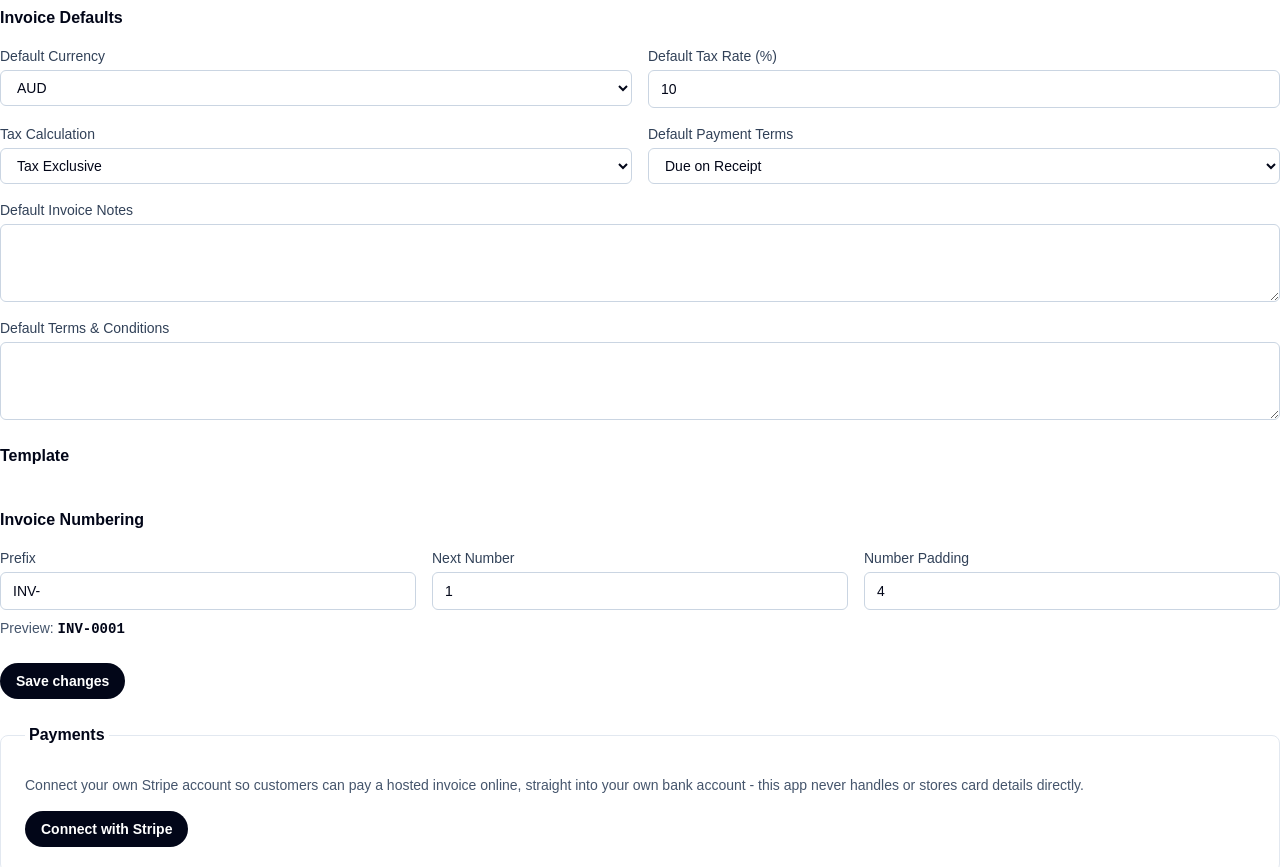
BusinessProfileSettings › shows a server error banner when saving fails
(page scrolled)
Click the button "Save changes" at (63, 681), box [0,663,125,699]
(page scrolled)
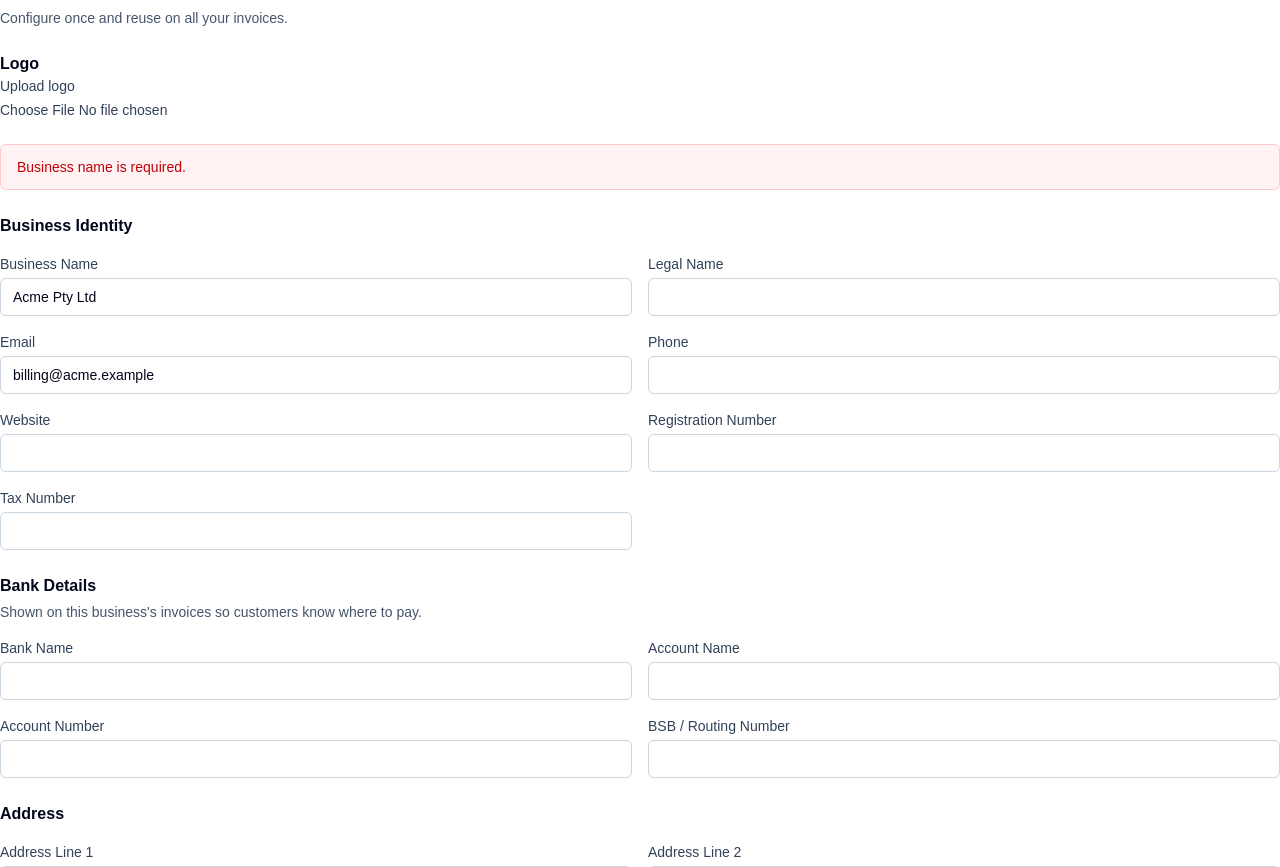
Now the message reads "Business name is required.", box [17,159,186,175]
